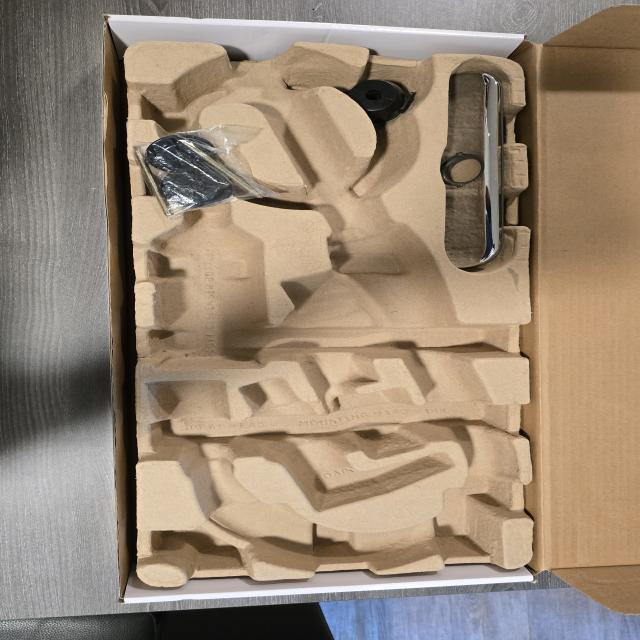1m: (144, 46, 507, 570)
2m: (241, 379, 454, 508)
3m: (151, 198, 264, 369)
4: (439, 72, 503, 269)
5: (349, 79, 420, 122)
6m: (141, 68, 233, 130)
7: (129, 123, 284, 219)
